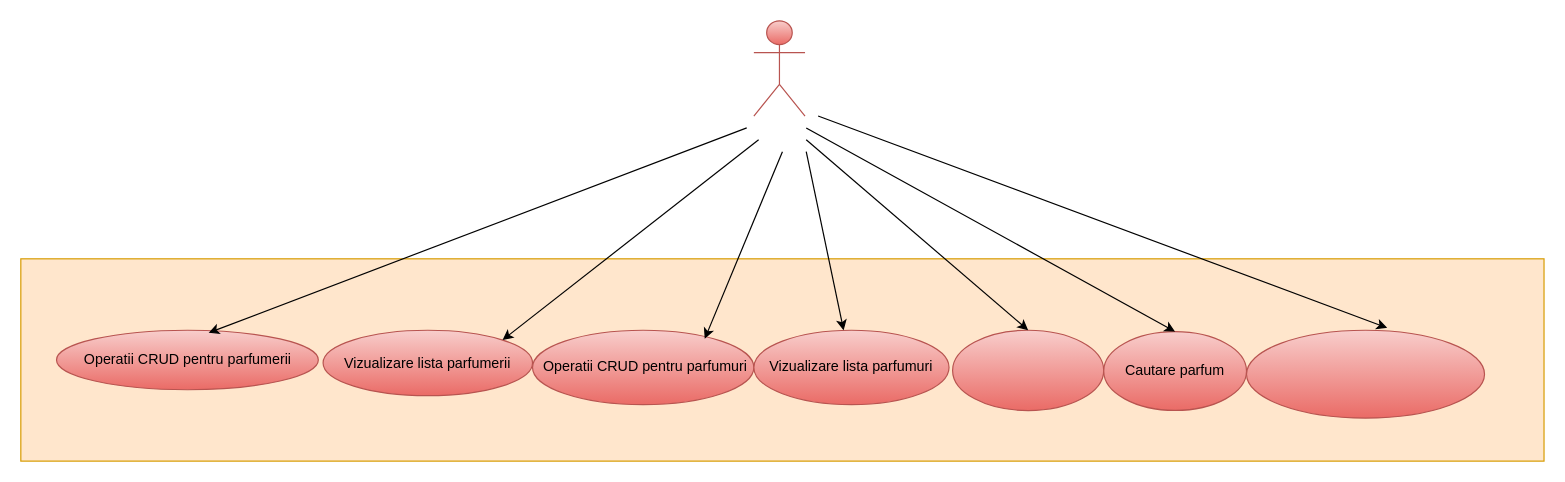
Some shapes in this 1565 by 482 pixel diagram are drawn without their labels. Here are the shapes that lost their labels. From the top down, the centre of each, then its label:
(779,68): Actor
(1027,370): Filtrare parfumuri
(1365,373): Salvare lista parfum epuizat
